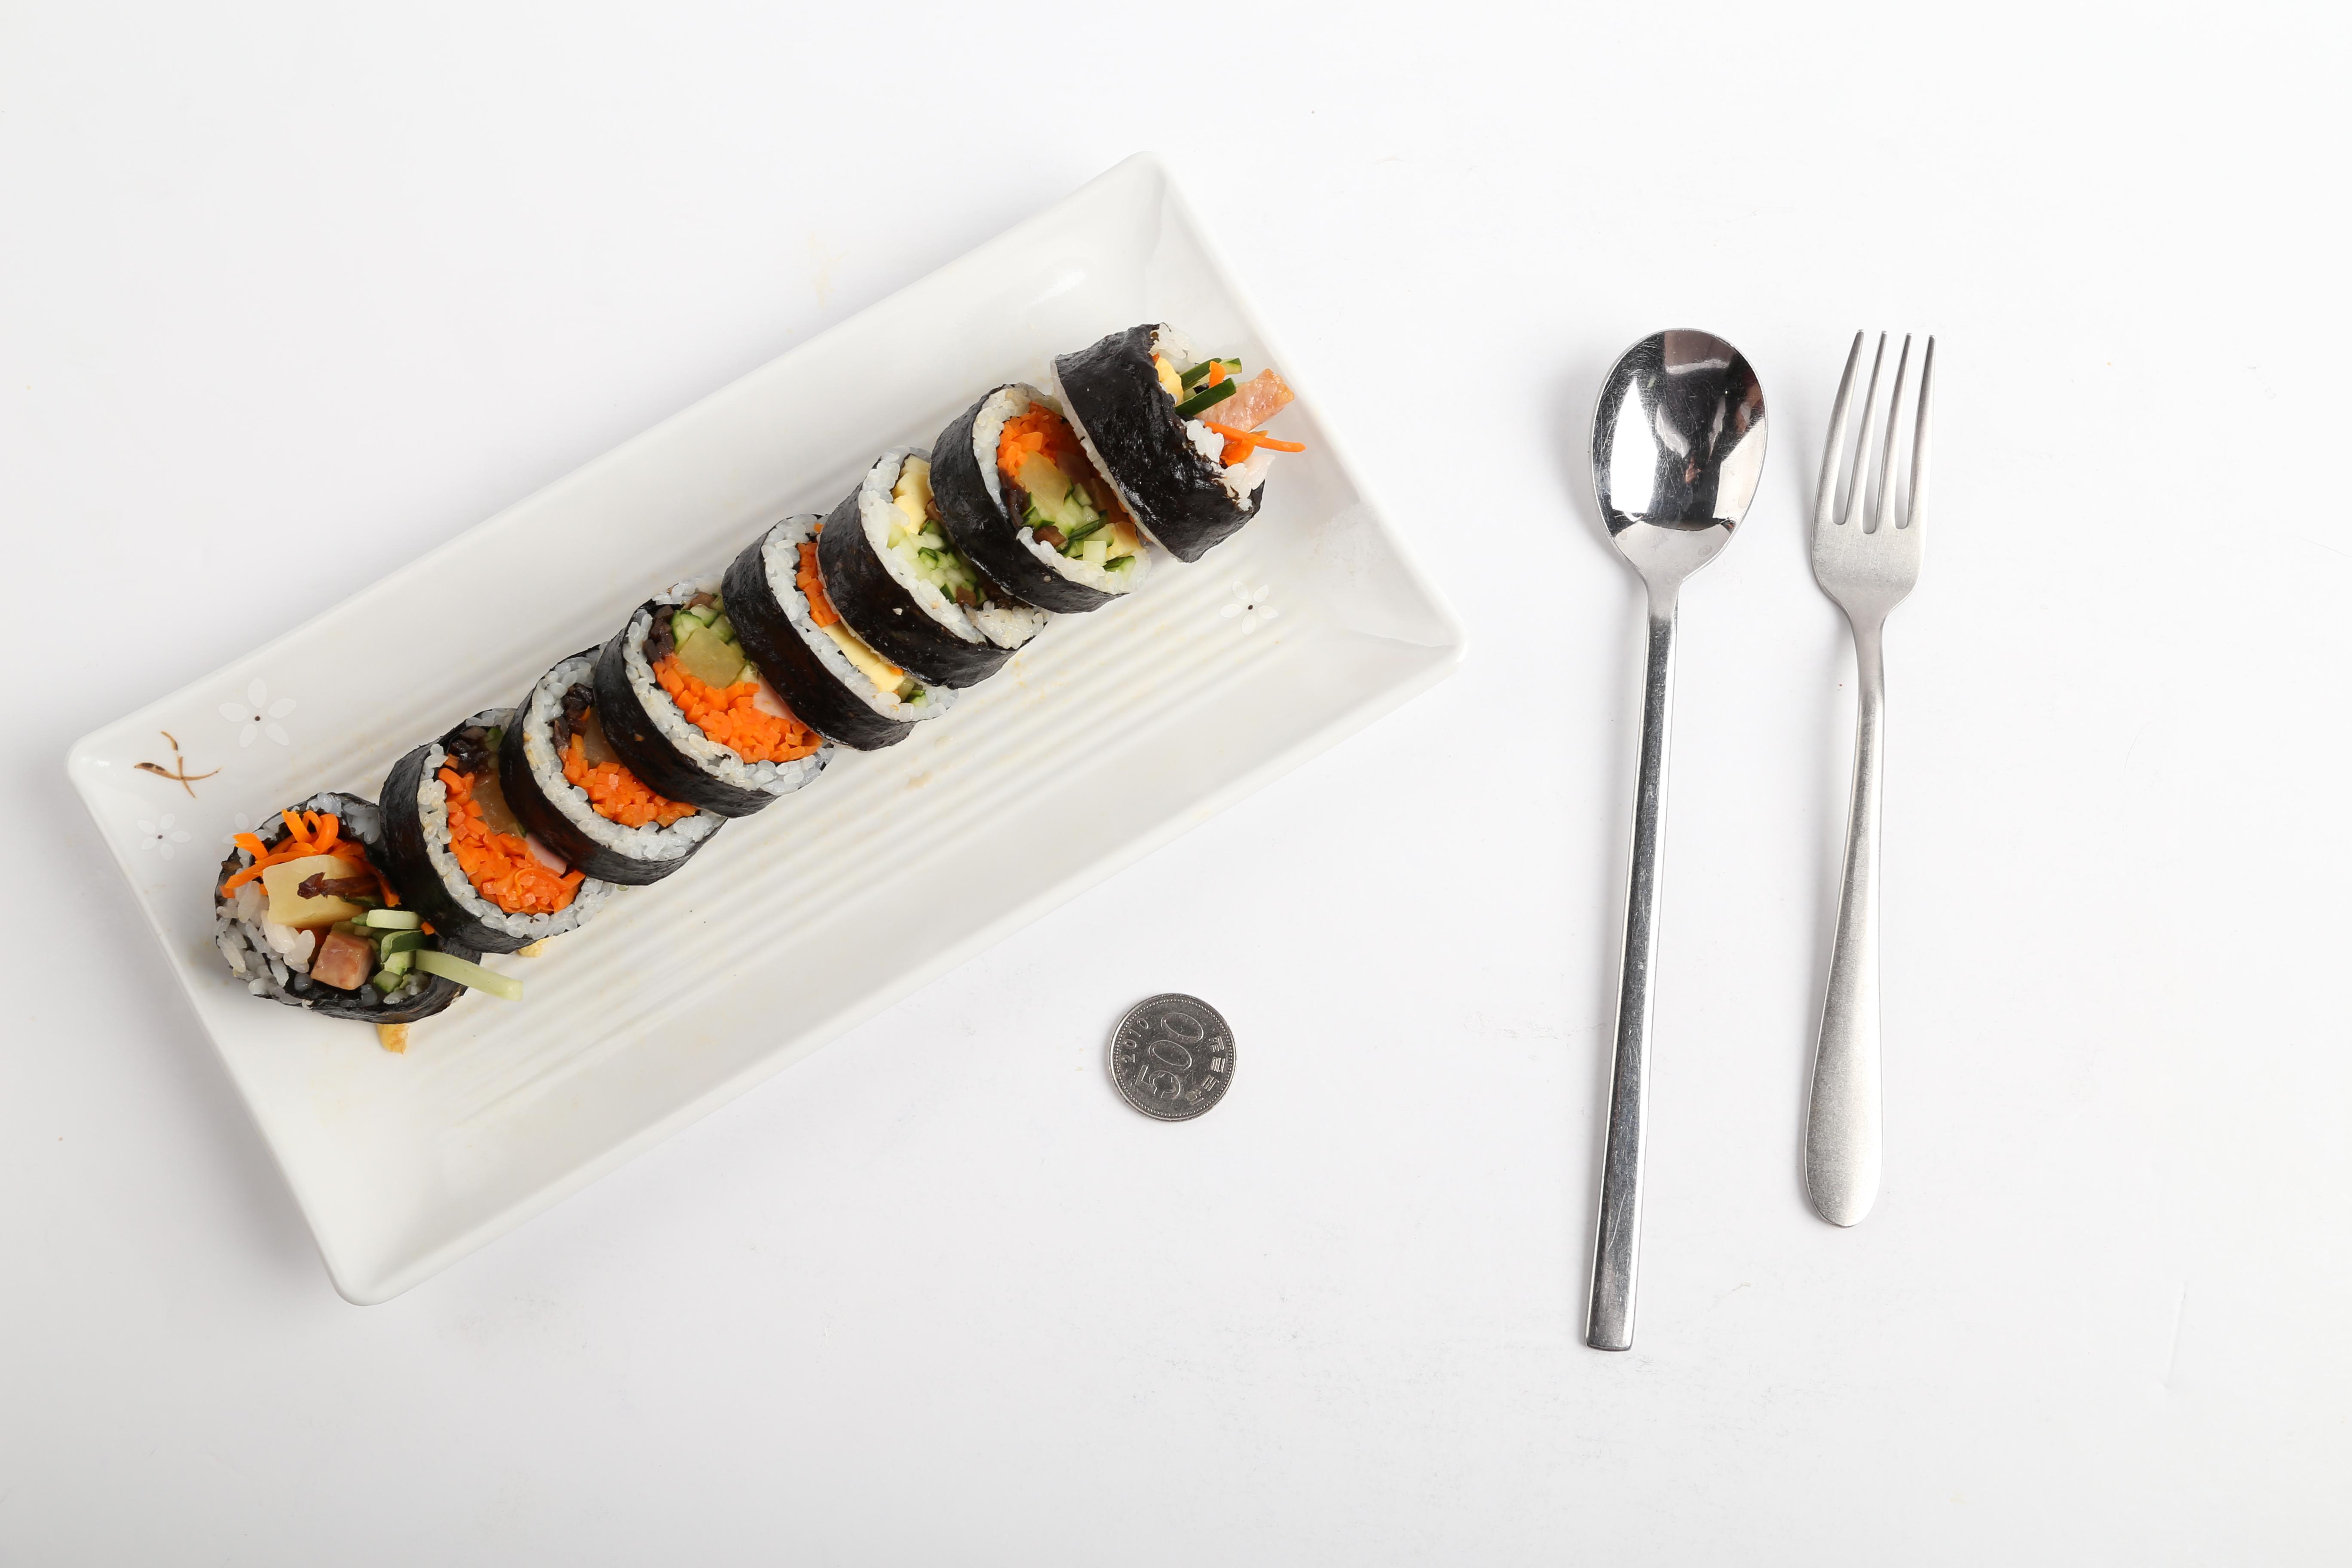dish: (59, 149, 1463, 1302)
ref_coin: (1099, 989, 1244, 1129)
ref_fork: (1802, 318, 1935, 674)
ref_spoon: (1584, 324, 1771, 633)
김밥: (208, 318, 1276, 1018)
